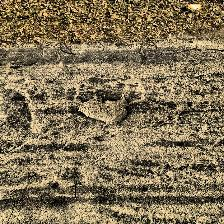pothole: (76, 93, 130, 123)
